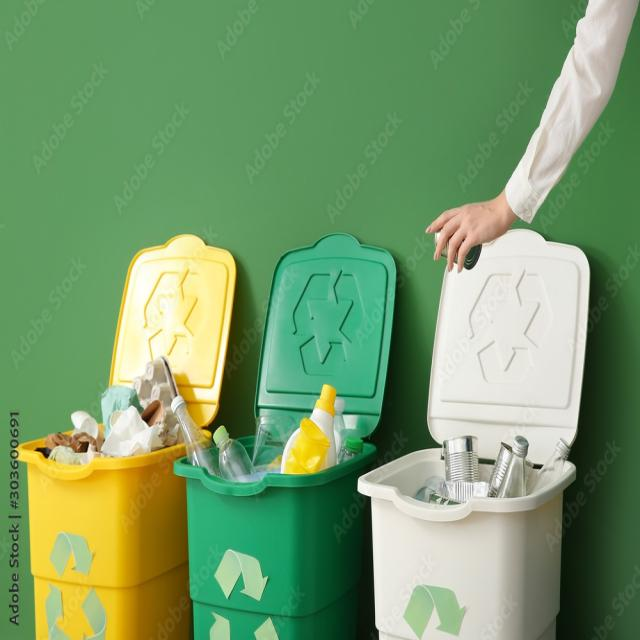cardboard: (44, 357, 165, 454)
metal: (424, 433, 509, 501)
plastic: (174, 391, 343, 482)
